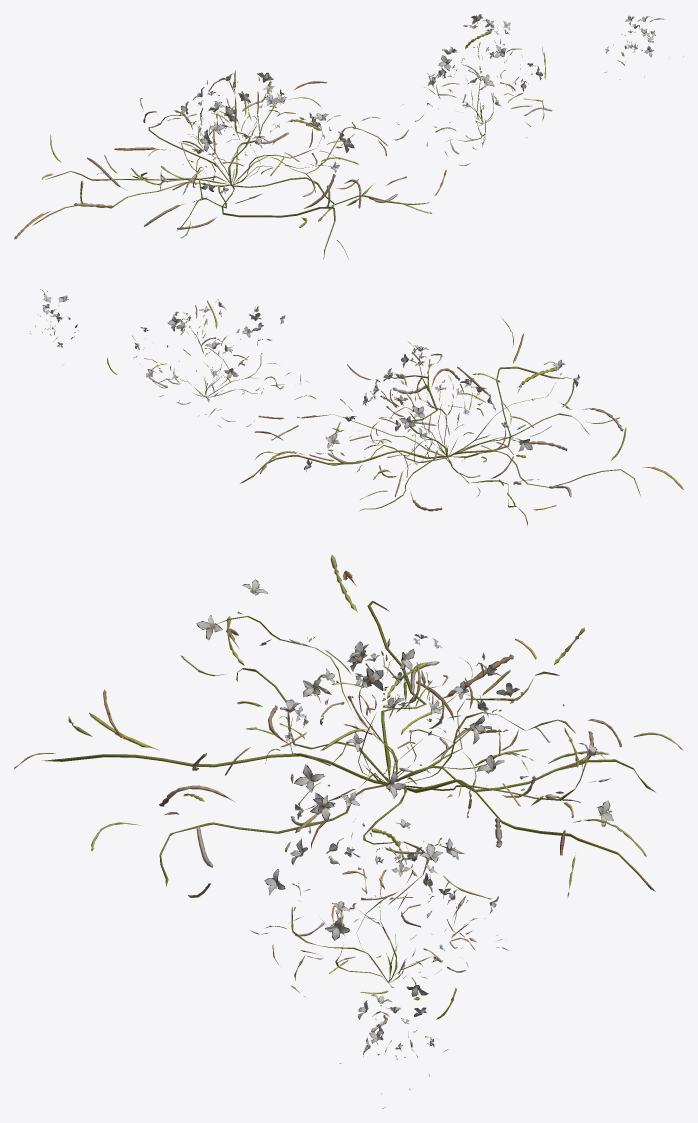
Rendered from flower_heliophila.glb.
The picture shows the model from 3 angles, top to bottom: view 1: azimuth 30°, elevation 25°; view 2: azimuth 150°, elevation 25°; view 3: azimuth 270°, elevation 25°; orthographic projection. The views are drawn at different scales.
Visible parts, largest first — view 1: flower_heliophila_large; view 2: flower_heliophila_large; view 3: flower_heliophila_large.
Part boxes in pixels (x1,y1,x2,y2): flower_heliophila_large: (14, 14, 683, 259); flower_heliophila_large: (29, 289, 683, 525); flower_heliophila_large: (14, 554, 683, 1108).
Bounding box in the file's own units: 2.71 × 0.3948 × 1.41.
1 material, 1 textured.
